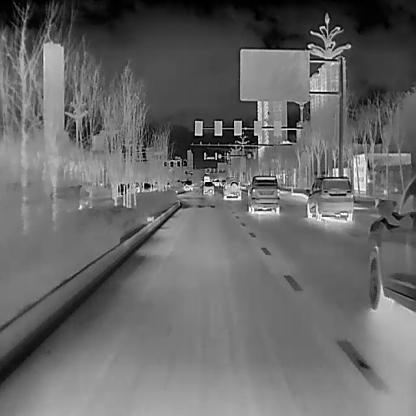car: (368, 173, 416, 314), (304, 175, 353, 220), (246, 174, 280, 214), (222, 175, 241, 200), (203, 180, 213, 194)
